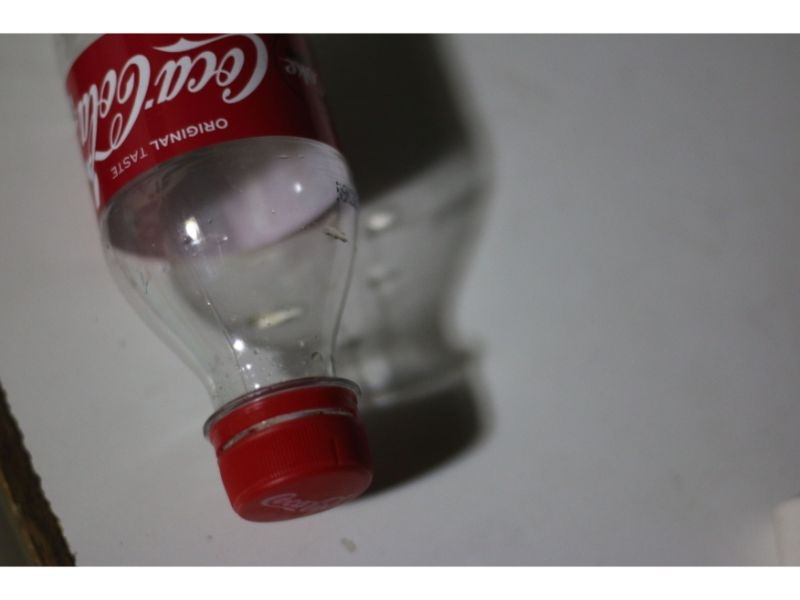PET #1: (52, 33, 375, 530)
